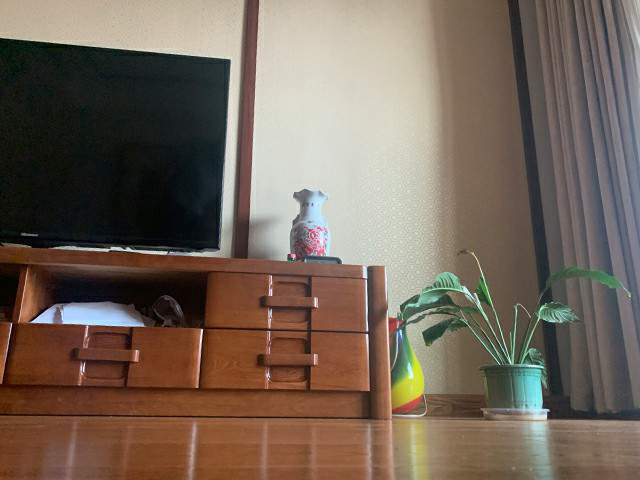cabinet: (1, 243, 393, 421)
curtain: (532, 1, 640, 414)
wire: (392, 392, 429, 419)
